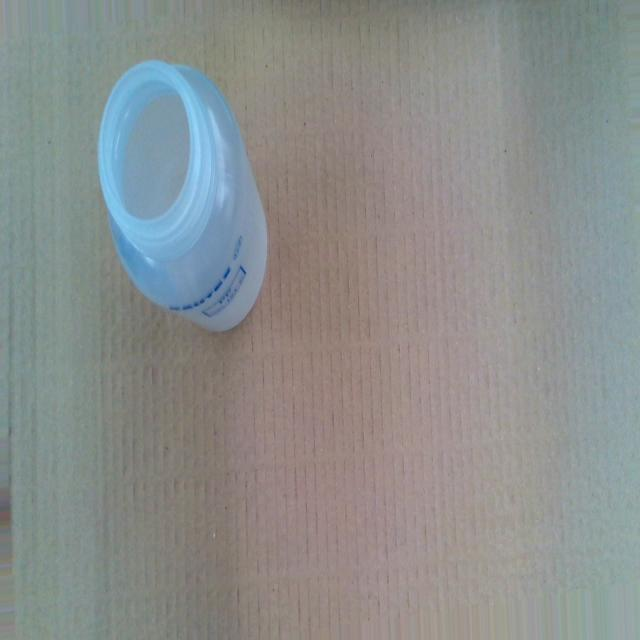bottle: (95, 48, 272, 336)
